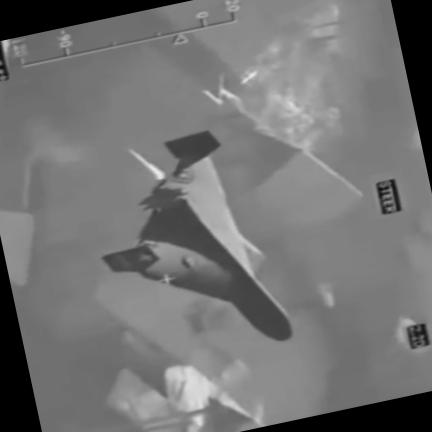Shahed: (101, 131, 292, 341)
